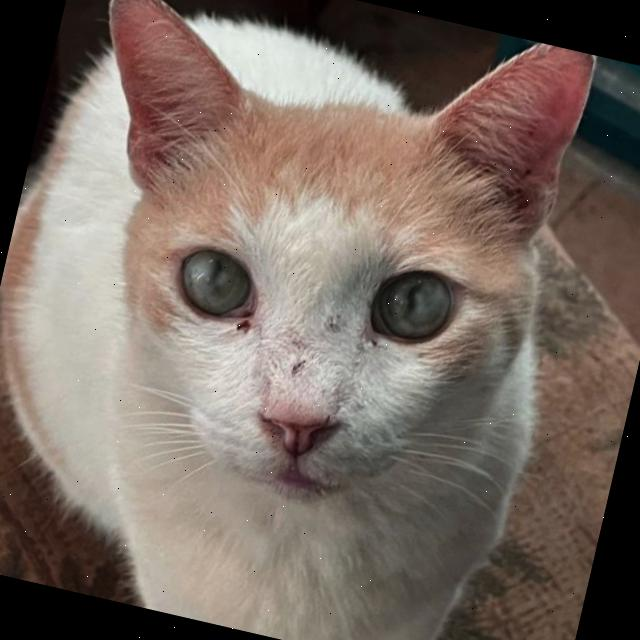domestic_short_hair_cat: (0, 0, 640, 573)
